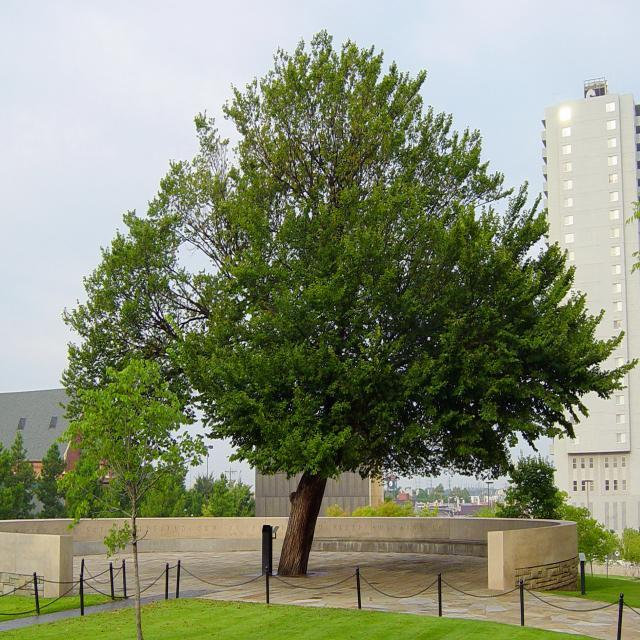Tree: (64, 31, 628, 588), (59, 355, 200, 640), (119, 444, 191, 517), (504, 455, 567, 524), (189, 474, 261, 522), (1, 430, 41, 514), (63, 444, 109, 515), (41, 438, 79, 514), (325, 498, 419, 521), (578, 518, 611, 577), (564, 504, 595, 566), (599, 523, 623, 581), (620, 523, 640, 580)
